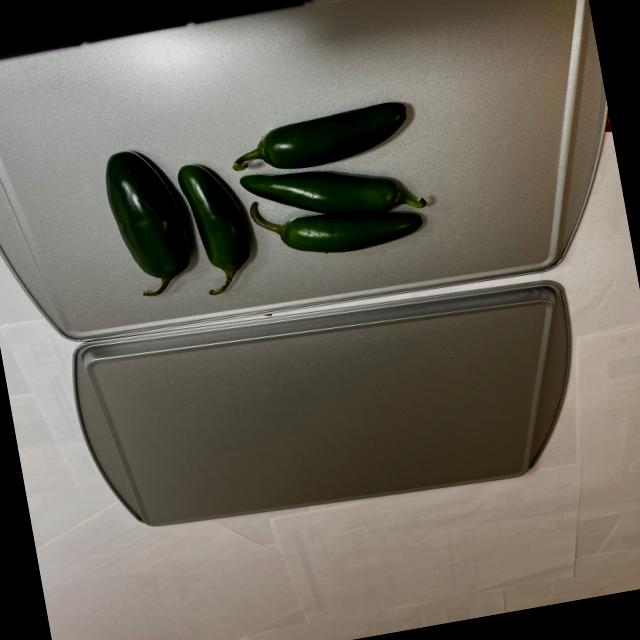chilli: (86, 92, 458, 311)
